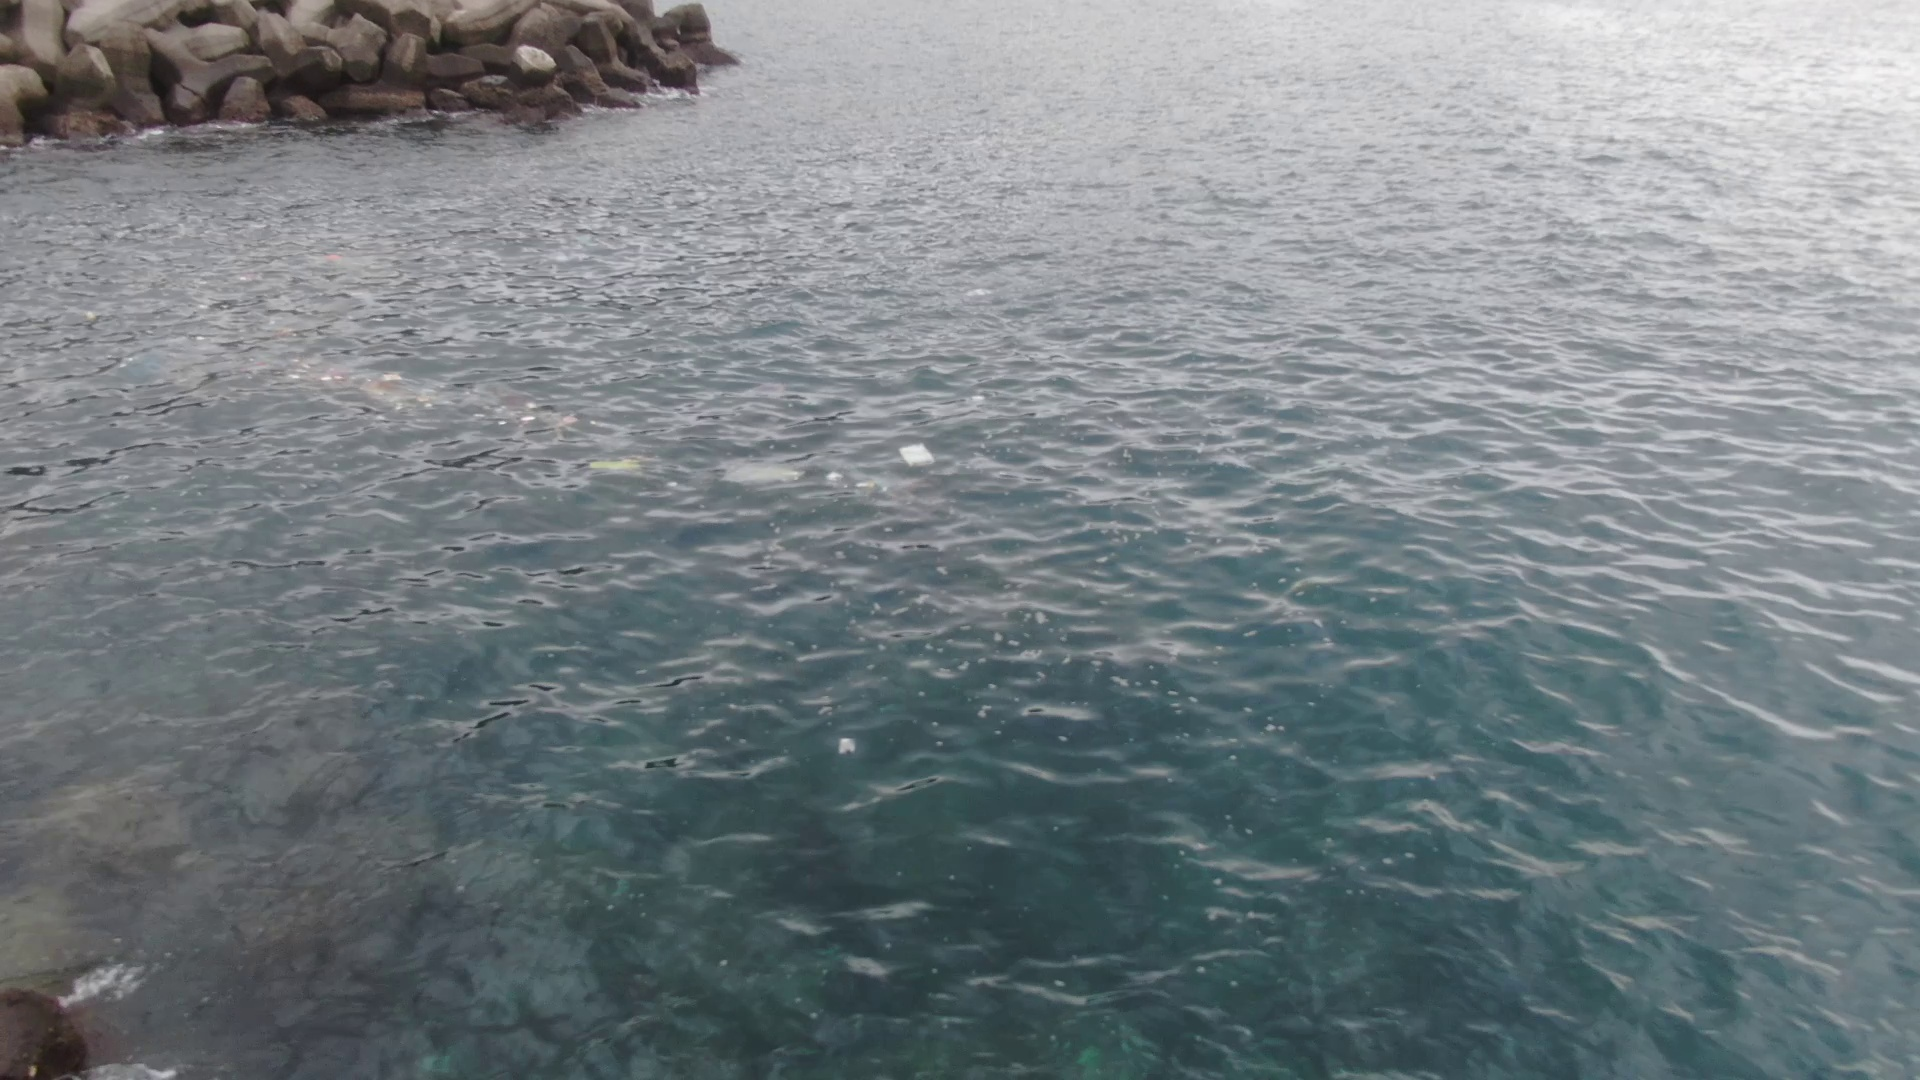garbage: (895, 436, 942, 472), (585, 456, 646, 477)
